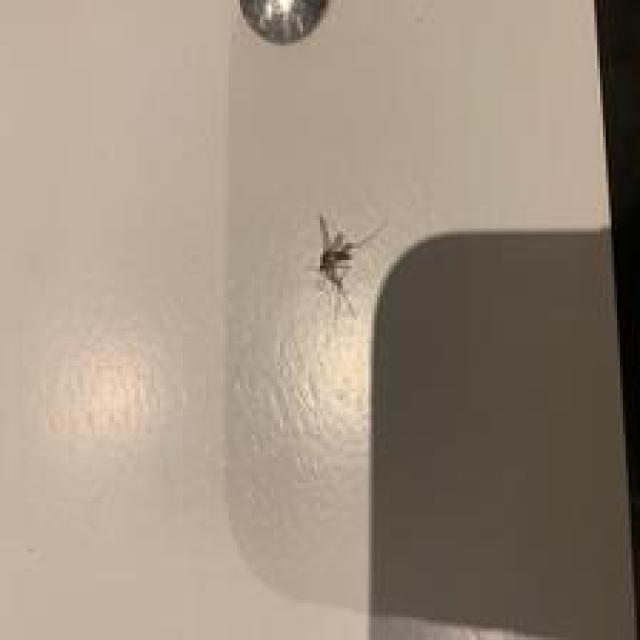Culex: (304, 211, 387, 320)
